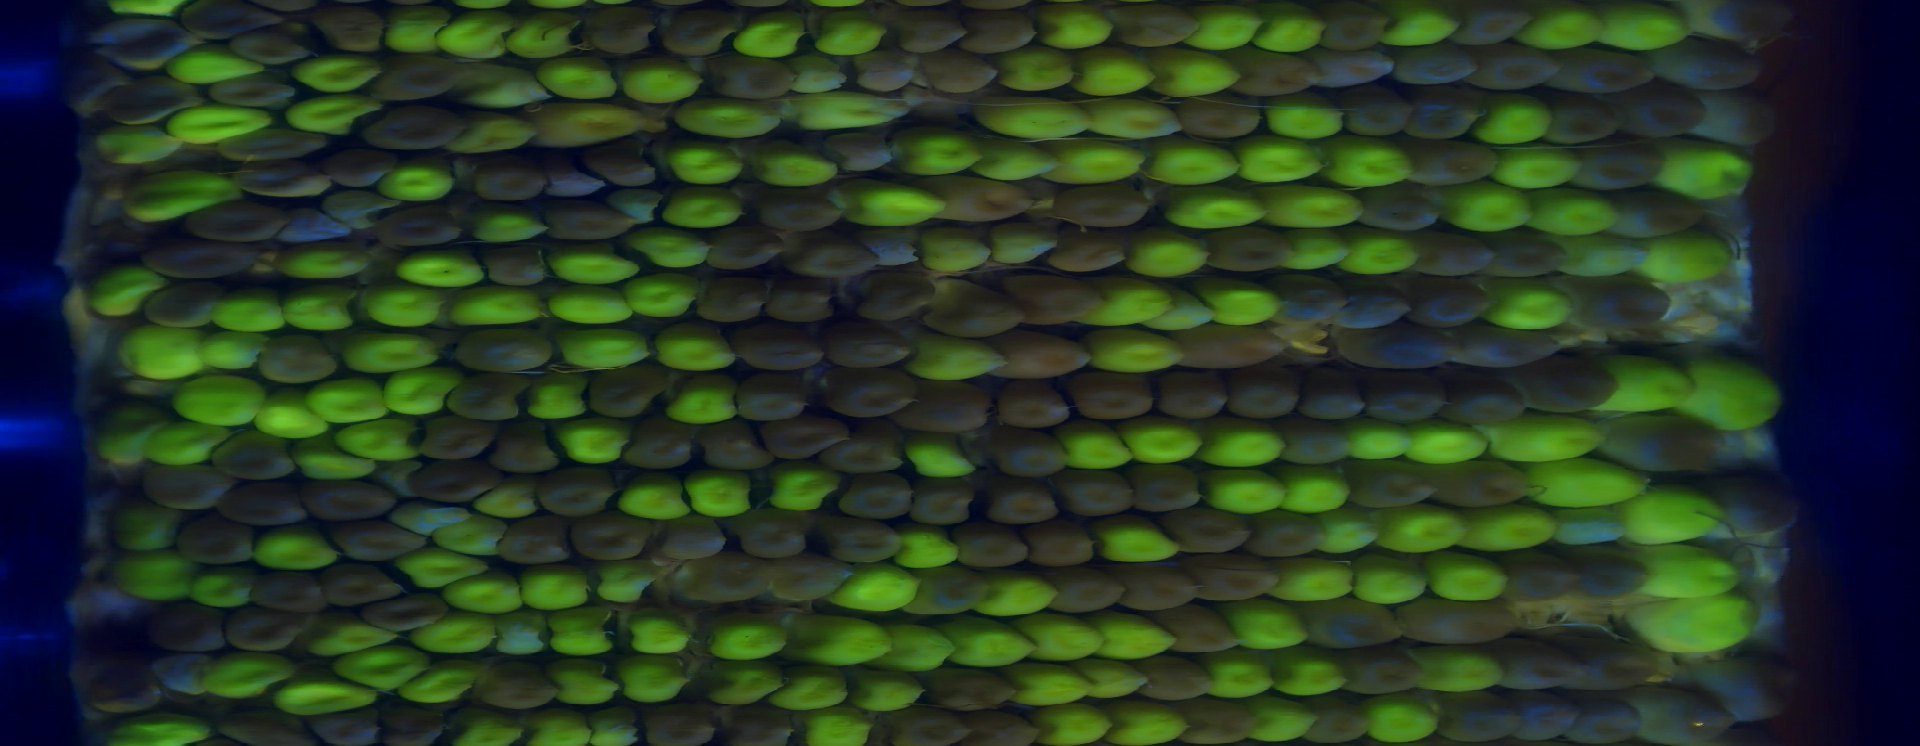fluorescent: (1629, 601, 1750, 650), (1528, 461, 1653, 507), (1632, 548, 1747, 598), (1648, 142, 1744, 201), (1706, 359, 1780, 431), (538, 107, 647, 156), (167, 372, 260, 426), (119, 326, 209, 381), (1019, 612, 1109, 668), (1493, 418, 1605, 462), (806, 611, 898, 665), (642, 321, 737, 372), (976, 96, 1092, 137), (1515, 191, 1618, 236), (1322, 134, 1403, 191), (1613, 355, 1693, 413), (337, 331, 447, 372), (1053, 137, 1153, 183), (1484, 284, 1573, 334), (1545, 236, 1653, 278), (610, 649, 689, 706), (555, 323, 645, 372), (1191, 4, 1276, 55), (976, 572, 1054, 627), (167, 100, 269, 142), (1380, 505, 1468, 552), (786, 97, 909, 131), (1269, 184, 1367, 227), (1199, 421, 1280, 473), (1607, 2, 1693, 50), (1151, 140, 1238, 187), (1205, 472, 1296, 517), (1342, 552, 1422, 604), (921, 220, 999, 272), (1657, 236, 1735, 288), (947, 620, 1032, 666), (1360, 695, 1438, 746), (334, 646, 429, 687), (203, 655, 298, 697), (250, 391, 329, 440), (396, 252, 495, 292), (773, 663, 853, 710), (1097, 521, 1182, 566), (1422, 647, 1506, 692), (813, 13, 890, 62), (1074, 45, 1147, 97), (910, 336, 993, 381), (1176, 184, 1269, 224), (296, 611, 389, 652), (989, 47, 1068, 94), (544, 281, 631, 323), (977, 137, 1057, 184), (1482, 91, 1551, 143), (667, 149, 753, 192), (1468, 507, 1554, 550), (673, 98, 770, 136), (844, 563, 916, 614), (1238, 145, 1322, 187), (553, 243, 638, 285), (1131, 232, 1213, 276), (160, 50, 266, 85), (468, 56, 541, 105), (1277, 468, 1354, 514), (460, 113, 544, 156), (206, 289, 291, 331), (1266, 643, 1341, 691), (444, 292, 545, 327), (1528, 7, 1609, 51), (707, 612, 787, 657), (111, 556, 190, 601), (409, 616, 500, 655), (1428, 556, 1506, 601), (1390, 5, 1466, 51), (898, 131, 973, 178), (756, 142, 838, 185), (1500, 143, 1580, 187), (1100, 276, 1173, 323), (376, 369, 471, 405), (1640, 499, 1719, 543), (1153, 58, 1234, 100), (96, 130, 190, 167), (615, 477, 693, 521), (251, 533, 338, 572), (1282, 224, 1353, 272), (757, 469, 831, 514), (618, 56, 699, 98), (269, 247, 371, 281), (1273, 98, 1349, 142), (1200, 653, 1270, 701), (289, 91, 371, 131), (664, 385, 735, 431), (448, 570, 519, 616), (1100, 612, 1171, 659), (441, 13, 513, 59), (534, 58, 615, 98), (1409, 423, 1493, 462), (129, 171, 227, 205), (108, 497, 174, 546), (91, 401, 144, 461), (299, 55, 389, 91), (1202, 284, 1273, 330), (1236, 605, 1315, 646), (367, 284, 444, 326), (624, 612, 693, 659), (891, 530, 964, 575), (351, 414, 432, 453), (1313, 511, 1382, 556), (276, 687, 371, 720), (282, 292, 361, 331), (1060, 431, 1138, 472), (741, 17, 809, 62), (1090, 339, 1177, 375), (1104, 107, 1180, 147), (549, 418, 616, 463), (80, 269, 158, 307), (206, 321, 261, 375), (1453, 183, 1513, 232), (693, 472, 753, 521), (549, 608, 610, 655), (313, 382, 380, 426), (711, 658, 782, 698), (115, 714, 204, 746), (847, 671, 920, 710), (634, 232, 710, 268), (519, 570, 593, 608), (1038, 708, 1112, 746), (845, 191, 939, 220), (473, 211, 567, 240), (520, 379, 587, 420), (895, 617, 948, 669), (1267, 4, 1322, 53), (553, 663, 615, 707), (800, 710, 884, 742), (513, 13, 567, 62), (1131, 426, 1198, 465), (411, 555, 484, 590), (909, 440, 977, 477), (478, 479, 538, 521), (1082, 661, 1150, 698), (1018, 669, 1092, 702), (151, 428, 216, 465), (999, 220, 1047, 272), (1116, 704, 1174, 746), (393, 503, 467, 537), (1349, 426, 1416, 463), (1282, 563, 1356, 597), (595, 560, 653, 601), (654, 195, 747, 220), (638, 274, 691, 320), (1158, 285, 1212, 330), (1253, 699, 1313, 739), (384, 163, 444, 201), (407, 673, 468, 708), (1351, 240, 1412, 274), (300, 446, 369, 477), (1042, 16, 1109, 47), (389, 13, 438, 55), (522, 713, 583, 746), (196, 573, 245, 614), (441, 523, 500, 556), (453, 713, 512, 746), (580, 710, 634, 746), (111, 1, 187, 26), (802, 65, 853, 97)
nonfluorescent: (1003, 272, 1116, 331), (1558, 537, 1651, 604), (1631, 692, 1742, 746), (1619, 416, 1722, 472), (1718, 468, 1805, 530), (1564, 626, 1651, 688), (1700, 659, 1791, 717), (1670, 34, 1766, 89), (1297, 597, 1403, 646), (144, 240, 269, 282), (898, 379, 993, 432), (1435, 376, 1534, 428), (1392, 595, 1518, 636), (1540, 88, 1626, 146), (1577, 282, 1670, 334), (1326, 326, 1451, 365), (454, 330, 553, 379), (1531, 360, 1616, 416), (654, 10, 751, 59), (1560, 47, 1657, 96), (1702, 1, 1798, 50), (824, 372, 920, 420), (61, 47, 129, 114), (1624, 88, 1704, 143), (938, 181, 1044, 223), (1106, 1, 1202, 47), (322, 518, 421, 562), (733, 330, 835, 372), (996, 330, 1089, 376), (680, 550, 773, 597), (1067, 185, 1157, 233), (1580, 146, 1668, 195), (1442, 688, 1522, 742), (1450, 330, 1561, 367), (1316, 2, 1395, 56), (916, 563, 986, 624), (1496, 549, 1567, 608), (909, 479, 996, 527), (920, 289, 1019, 331), (918, 665, 1018, 707), (589, 5, 667, 58), (482, 658, 561, 710), (100, 23, 184, 72), (216, 437, 296, 488), (211, 126, 324, 162), (1703, 89, 1774, 146), (367, 51, 458, 96), (135, 459, 228, 502), (580, 510, 645, 571), (182, 202, 280, 243), (847, 269, 928, 318), (1566, 695, 1642, 746), (508, 518, 580, 572), (178, 1, 287, 37), (735, 375, 808, 428), (1209, 220, 1289, 268), (1220, 372, 1300, 420), (1270, 276, 1344, 327), (1073, 372, 1151, 421), (733, 511, 820, 555), (1413, 287, 1502, 330), (993, 379, 1078, 424), (253, 334, 336, 381), (153, 600, 235, 647), (692, 273, 768, 323), (820, 511, 900, 559), (218, 165, 324, 201), (1509, 685, 1577, 740), (245, 571, 336, 612), (789, 234, 882, 274), (1413, 143, 1502, 185), (200, 75, 298, 113), (227, 608, 302, 657), (924, 53, 1002, 100), (178, 518, 247, 571), (109, 76, 197, 118), (713, 56, 796, 100), (1360, 463, 1444, 507), (1248, 514, 1331, 559), (1237, 55, 1316, 100), (1505, 635, 1567, 692), (639, 699, 716, 746), (93, 653, 149, 717), (1190, 330, 1284, 367), (838, 330, 916, 375), (360, 598, 451, 637), (376, 108, 460, 149), (1445, 465, 1529, 507), (413, 410, 486, 458), (216, 707, 313, 742), (725, 698, 800, 745), (770, 559, 853, 600), (760, 195, 855, 232), (629, 418, 697, 469), (1393, 49, 1482, 88), (1302, 698, 1374, 746), (1419, 233, 1493, 279), (541, 208, 640, 243), (476, 247, 553, 292), (213, 489, 305, 526), (380, 207, 460, 249), (496, 423, 558, 477), (887, 704, 967, 746), (1057, 232, 1125, 281), (660, 517, 729, 566), (710, 230, 786, 274), (824, 432, 900, 477), (969, 702, 1044, 746), (315, 473, 397, 513), (447, 382, 531, 421), (1460, 4, 1537, 47), (1347, 85, 1418, 131), (1190, 559, 1277, 597), (1493, 232, 1561, 279), (1128, 566, 1196, 614), (1370, 192, 1451, 233), (1474, 45, 1558, 85), (306, 707, 389, 746), (1056, 566, 1125, 612), (138, 279, 216, 321), (845, 477, 909, 527), (1348, 646, 1429, 685), (1029, 523, 1095, 571), (551, 472, 618, 518), (768, 279, 839, 323), (1191, 94, 1255, 143), (1187, 702, 1261, 744), (758, 421, 847, 456), (1622, 195, 1706, 232), (1280, 426, 1360, 463), (1316, 50, 1393, 88), (1071, 463, 1122, 521), (967, 10, 1035, 53), (699, 426, 767, 469), (1153, 376, 1224, 416), (1416, 100, 1480, 145), (380, 699, 441, 746), (312, 20, 389, 56), (1167, 610, 1237, 650), (415, 463, 497, 497), (986, 436, 1064, 472), (858, 55, 924, 97), (239, 23, 309, 62), (1344, 281, 1403, 327), (1144, 469, 1202, 516), (1367, 372, 1435, 412), (1299, 379, 1367, 418), (587, 367, 658, 404), (1000, 484, 1071, 521), (1176, 514, 1248, 550), (476, 163, 542, 201), (326, 143, 384, 185), (332, 563, 403, 598), (831, 136, 898, 173), (587, 153, 655, 187), (898, 10, 967, 43), (1150, 658, 1210, 695), (967, 533, 1029, 565)
